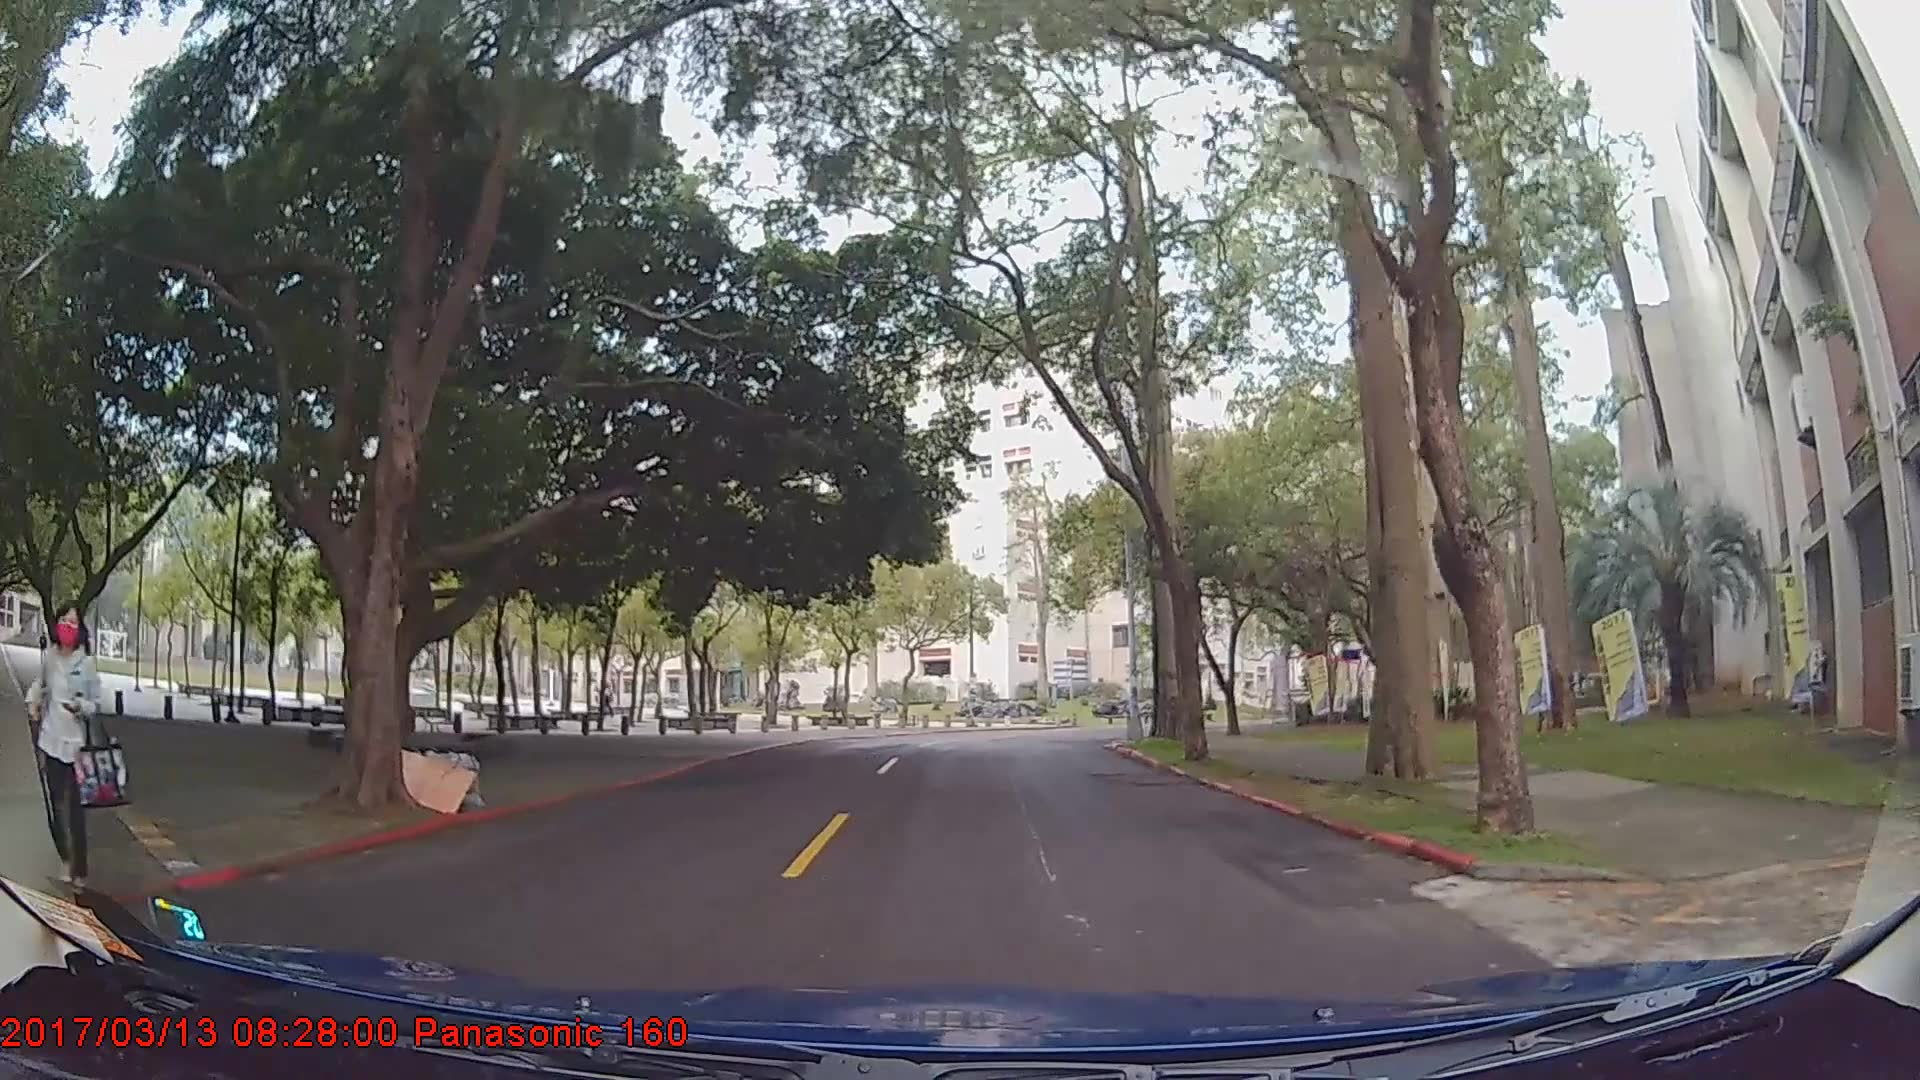pedestrian: (24, 592, 132, 896)
